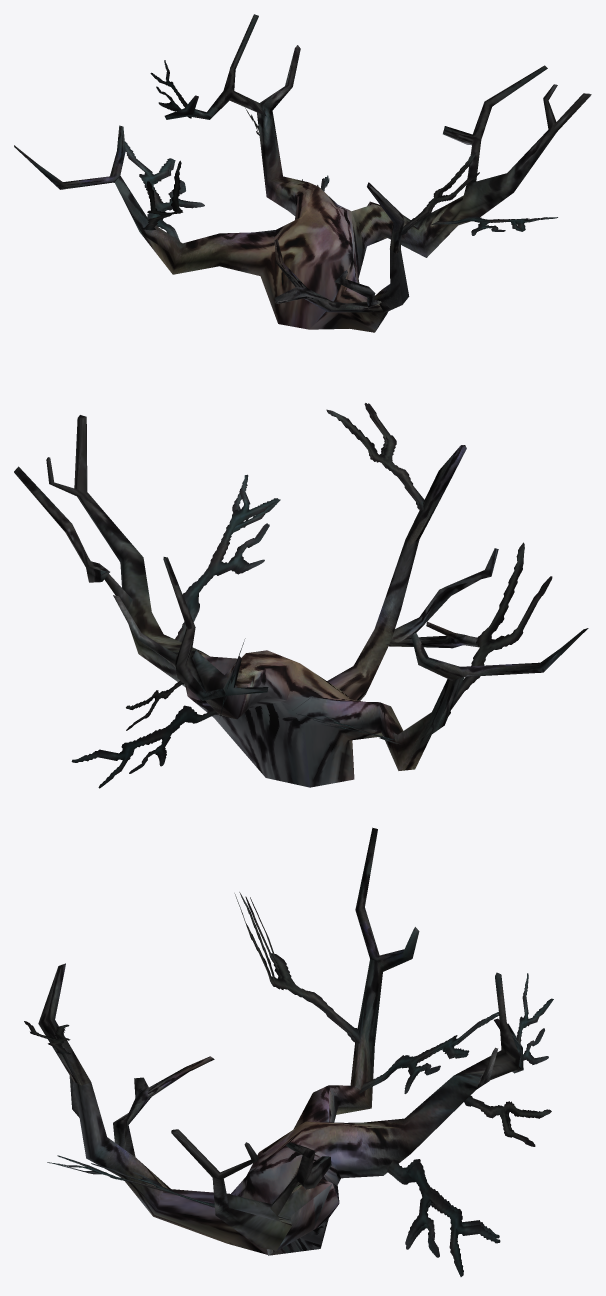
File: FOL_DeadTreeCrown.FBX
3 renders of one model, top to bottom at view 1: azimuth 30°, elevation 25°; view 2: azimuth 150°, elevation 25°; view 3: azimuth 270°, elevation 25°, orthographic. The views are drawn at different scales.
Parts seen in each view (by area): view 1: FOL_DeadTreeCrown; view 2: FOL_DeadTreeCrown; view 3: FOL_DeadTreeCrown.
Boxes of the visible parts, left/top/right/bottom form: FOL_DeadTreeCrown: left=14, top=14, right=591, bottom=332; FOL_DeadTreeCrown: left=14, top=403, right=588, bottom=788; FOL_DeadTreeCrown: left=24, top=827, right=553, bottom=1276.
Bounding box in the file's own units: 652 × 303 × 535.
